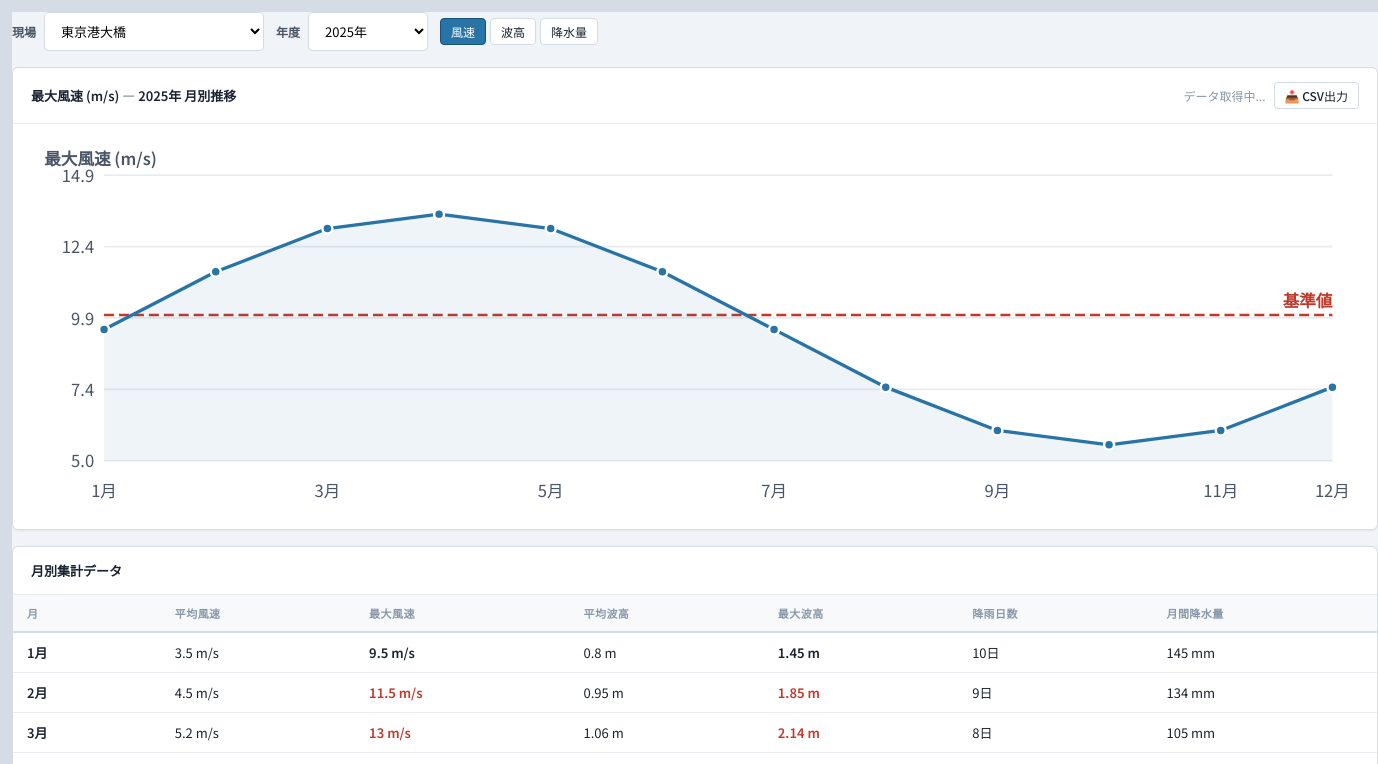
HistoricalPage › switching to 波高 makes that button active and renders a LineChart
Click the button "波高" at (513, 32), box [490,18,536,45]
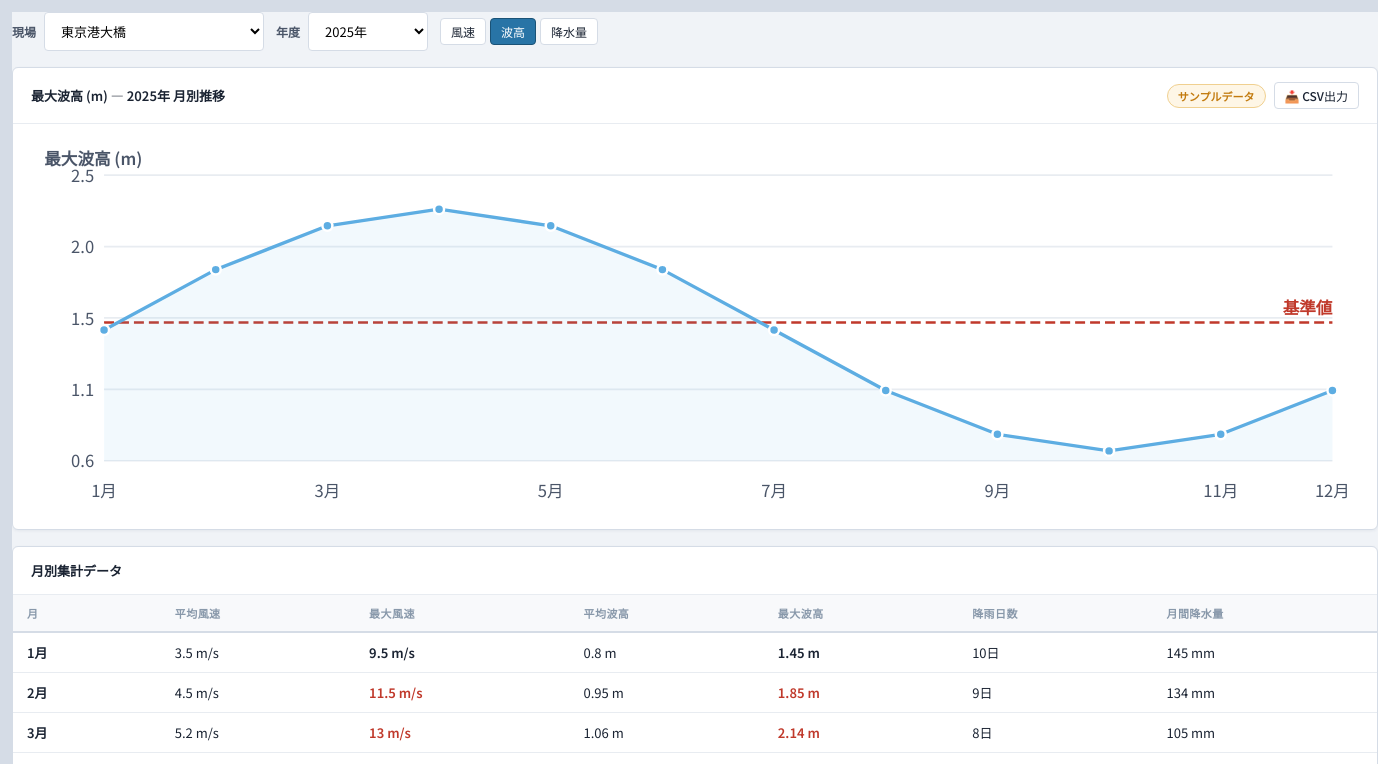
Result: the text "最大波高 (m)" is shown at [31,86,108,105]
